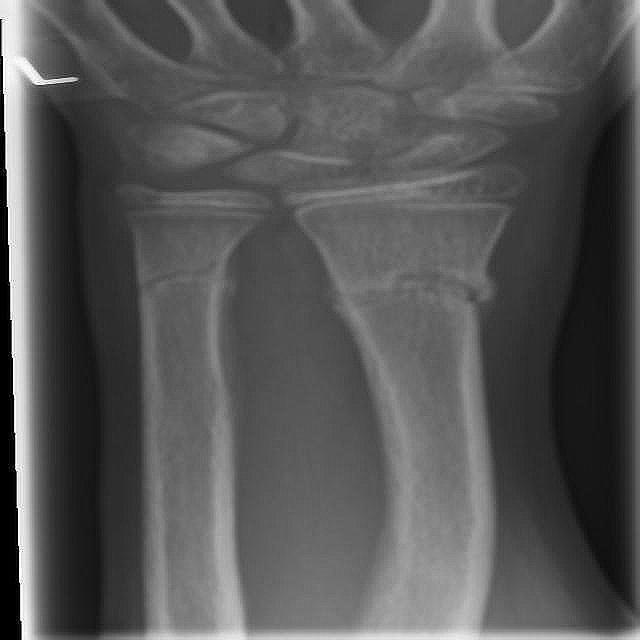bone: (324, 266, 506, 320), (132, 256, 238, 296)
